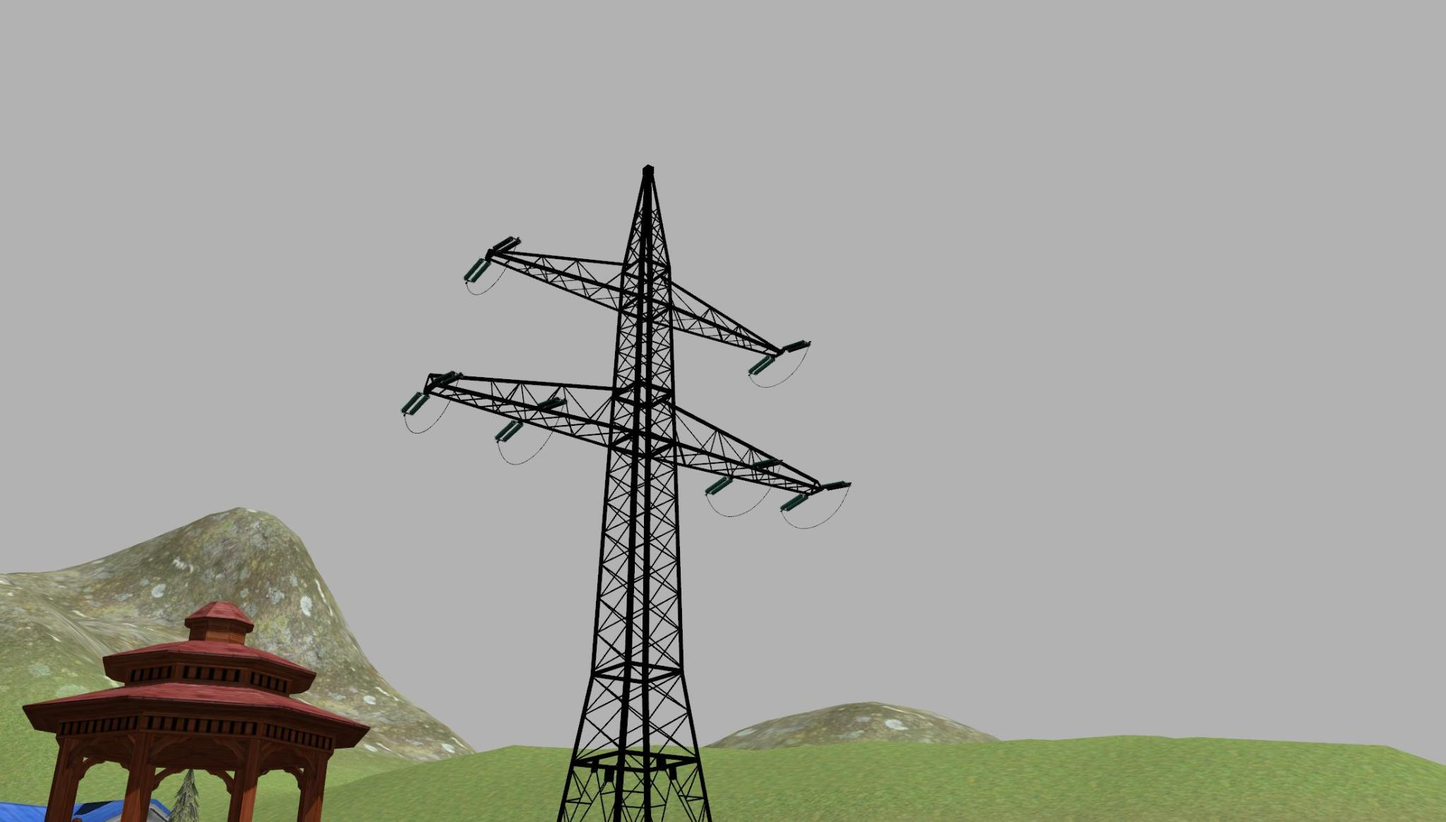tower: (429, 160, 815, 822)
